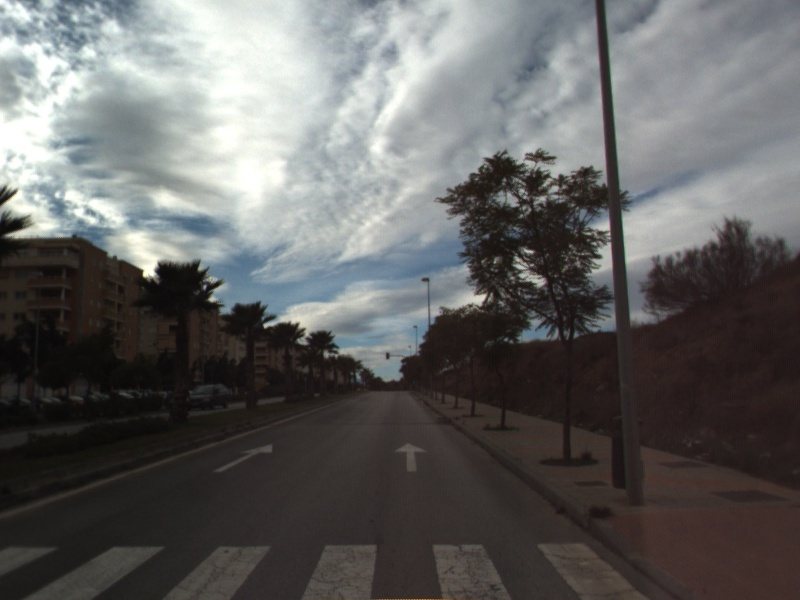STRAIGHT: (211, 442, 275, 474), (392, 441, 430, 474)
